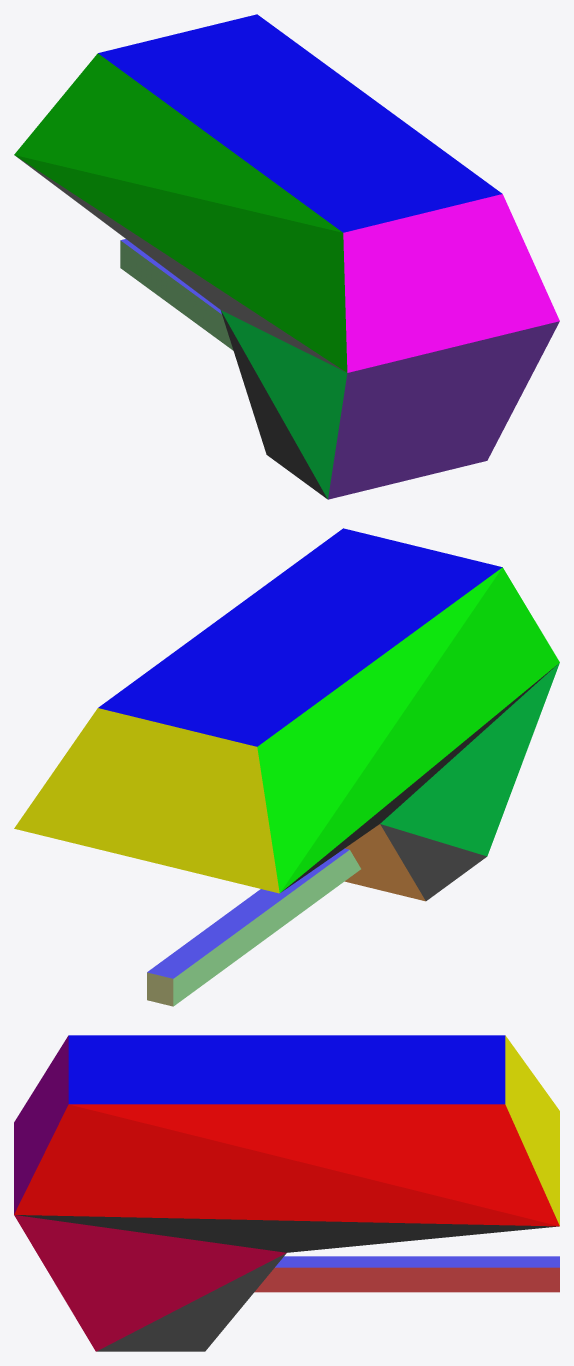
File: stellar7a.obj
3 views of the same model, one above another, from view 1: azimuth 30°, elevation 25°; view 2: azimuth 150°, elevation 25°; view 3: azimuth 270°, elevation 25° (orthographic). The views are drawn at different scales.
Parts seen in each view (by area): view 1: HeavyTank; view 2: HeavyTank; view 3: HeavyTank.
Part boxes in pixels (x1,y1,x2,y2): HeavyTank: (14, 14, 559, 499); HeavyTank: (14, 528, 559, 1006); HeavyTank: (14, 1035, 559, 1351).
Size of the model in its own units: 1 by 1 by 2.
Materials: 1 (1 with a texture image).
